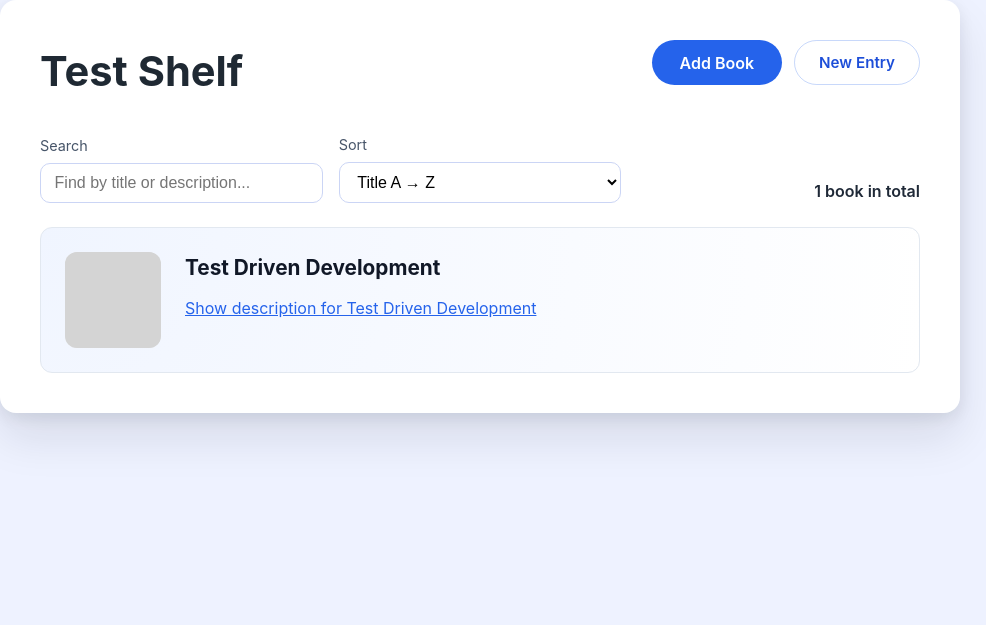
Test: BookList › adds a new book when the add button is clicked
What coordinates should you click on to do the following:
click the button "Add Book"
I would click on:
 (717, 62)
Its box is [652, 40, 782, 85].
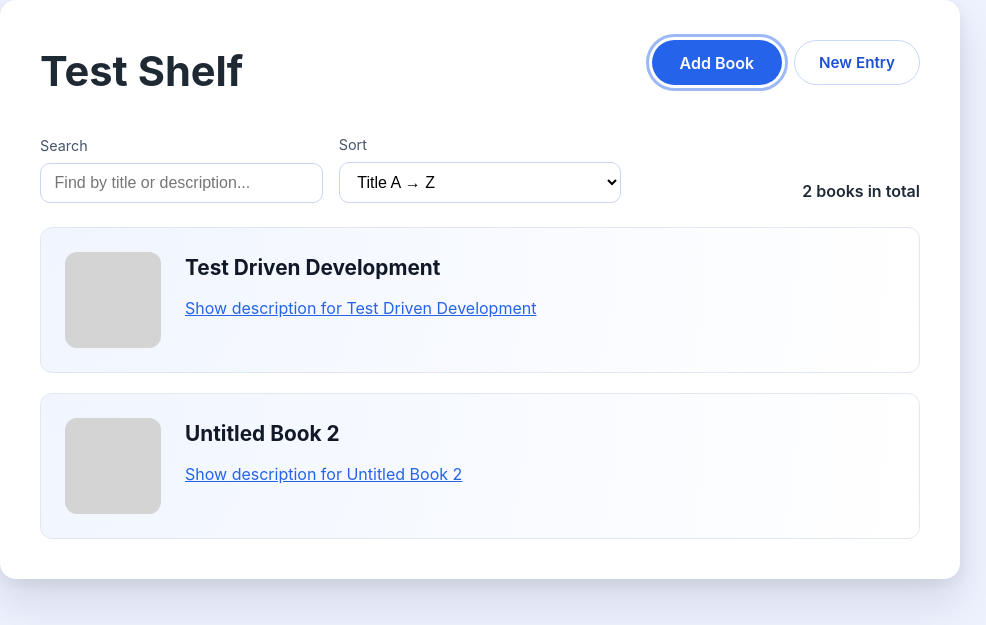
Expected: the heading "Untitled Book 2" is shown, [185, 421, 340, 446]
